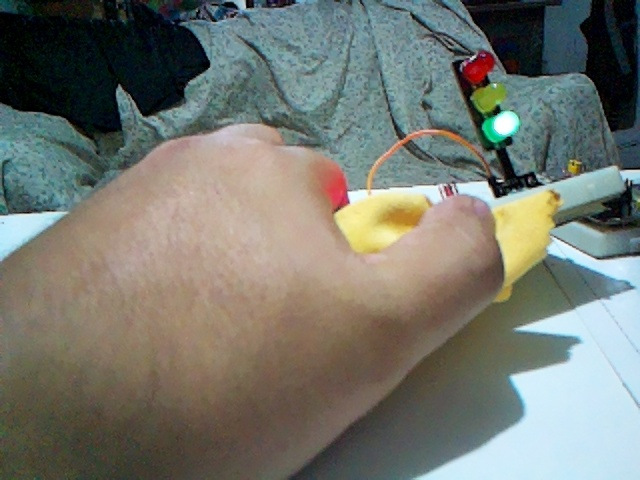traffic_light_green: (453, 51, 523, 182), (453, 51, 519, 146)
